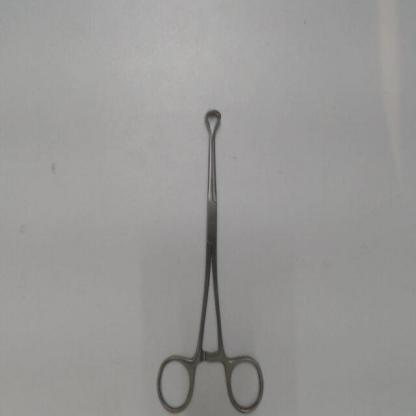Babcock Tissue Forceps: (154, 99, 268, 416)
